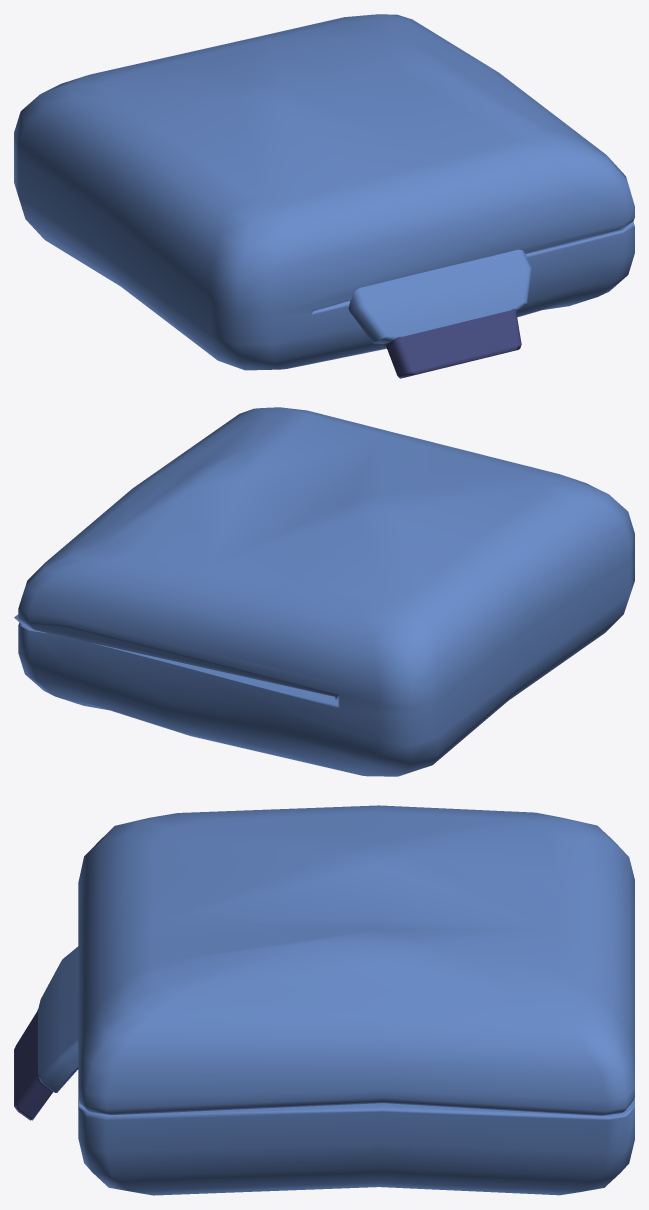
The model's file is FoldedCloths.fbx.
3 views of the same model, one above another, from view 1: azimuth 30°, elevation 25°; view 2: azimuth 150°, elevation 25°; view 3: azimuth 270°, elevation 25° (orthographic). The views are drawn at different scales.
Parts seen in each view (by area): view 1: FoldedClothes; view 2: FoldedClothes; view 3: FoldedClothes.
Boxes of the visible parts, left/top/right/bottom form: FoldedClothes: left=14, top=14, right=634, bottom=378; FoldedClothes: left=14, top=407, right=634, bottom=776; FoldedClothes: left=14, top=805, right=634, bottom=1195.
Bounding box in the file's own units: 26.66 × 12 × 29.6.
1 material, 1 textured.
